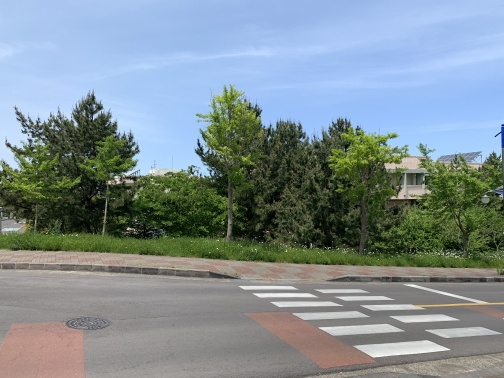College Of Education: (377, 149, 500, 218)
